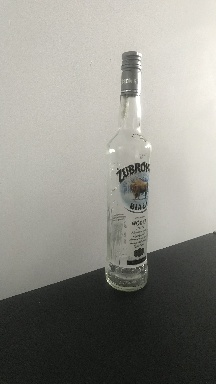butelka: (103, 47, 153, 294)
